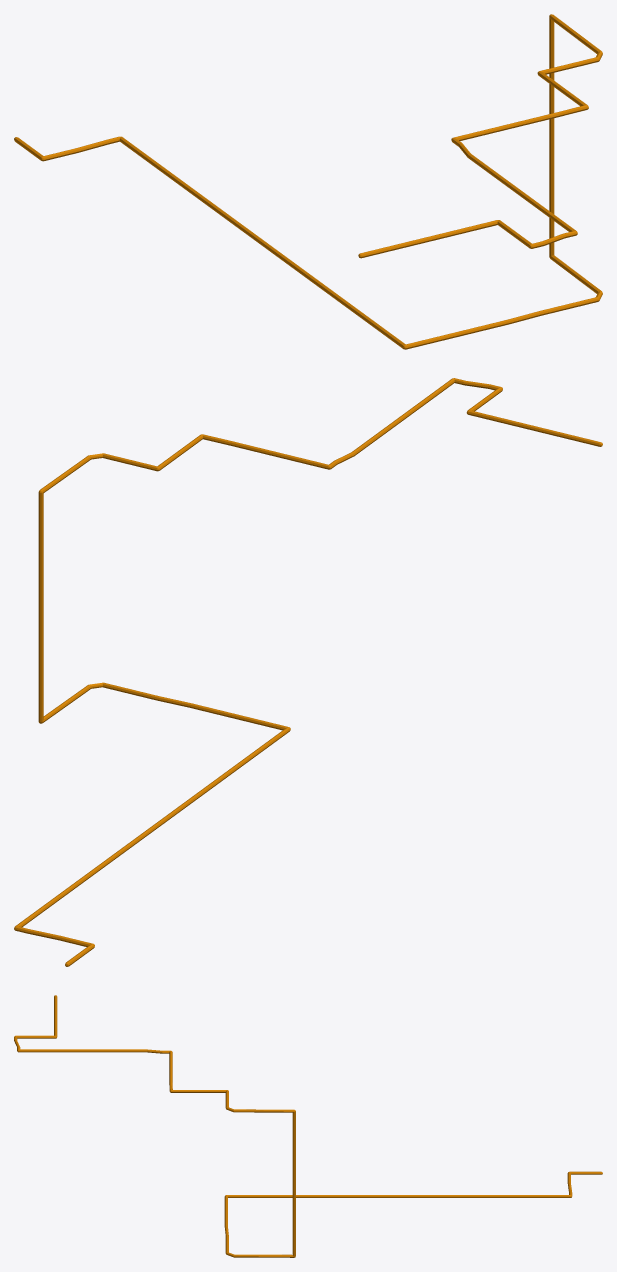
3 renders of one model, top to bottom at view 1: azimuth 30°, elevation 25°; view 2: azimuth 150°, elevation 25°; view 3: azimuth 270°, elevation 25°, orthographic. The views are drawn at different scales.
Bounding box in the file's own units: 1713 × 1020 × 3678.
